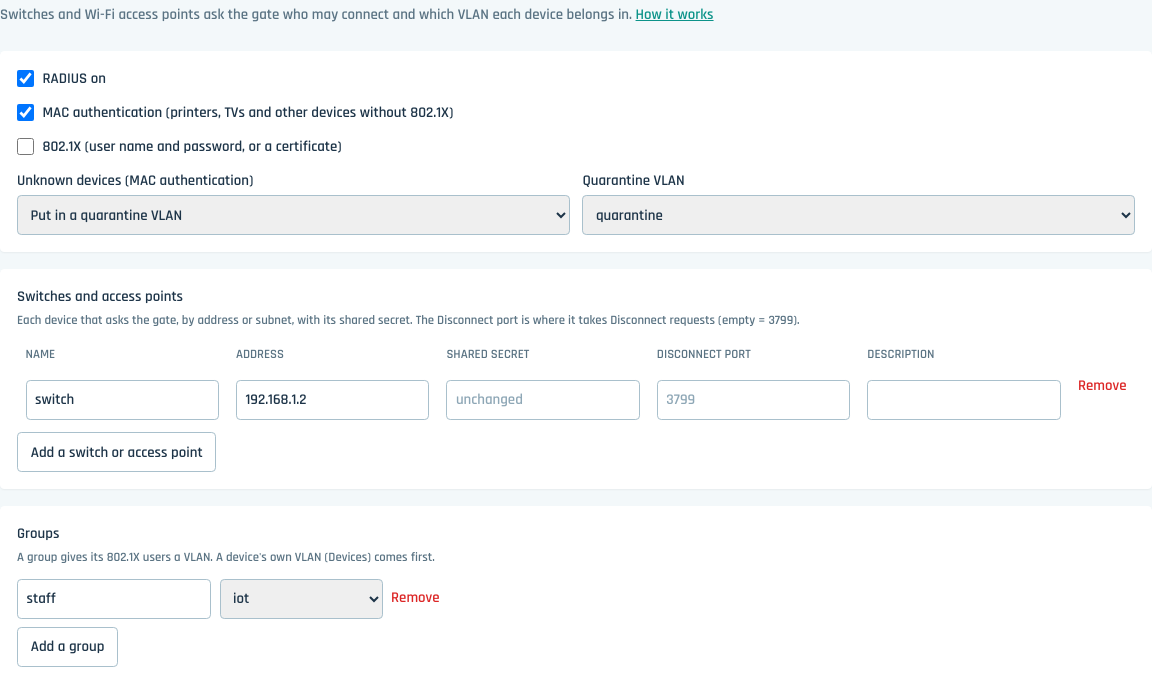
Network → RADIUS › checks the form before saving
expect the table named "Switches and access points" is shown: met, box [17, 337, 1135, 424]
Click the button "Add a switch or access point" at (117, 452), box [17, 432, 216, 472]
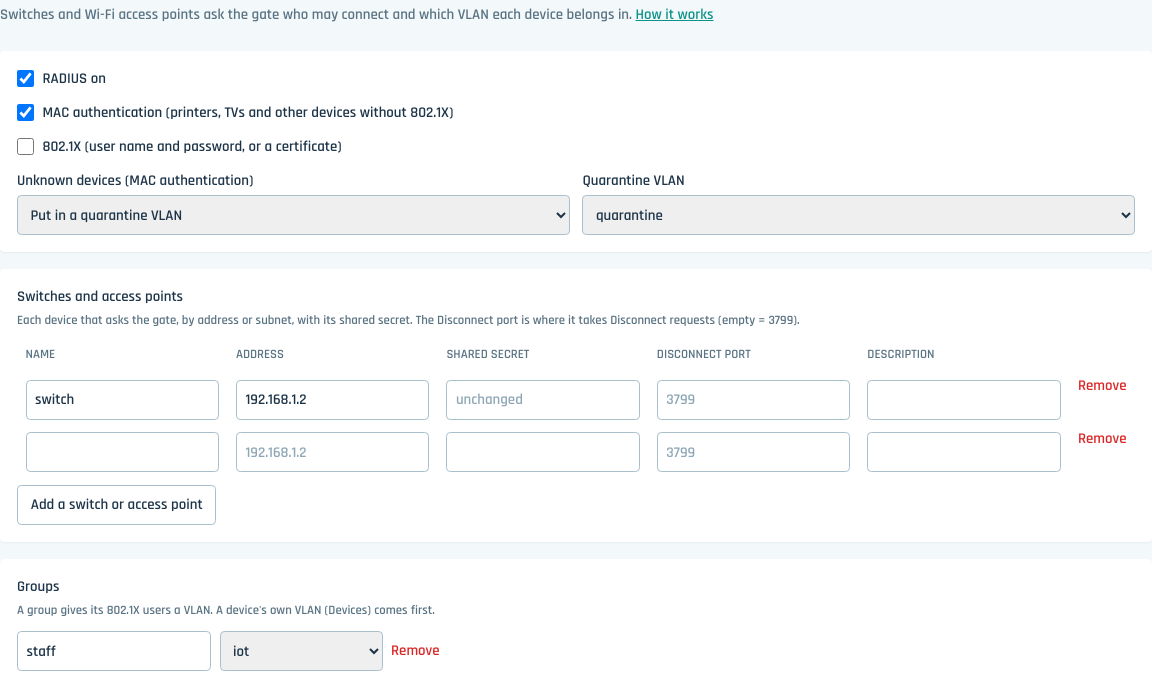
Type "ap" into the 2nd field named "Name" at (122, 452), box [26, 432, 219, 472]
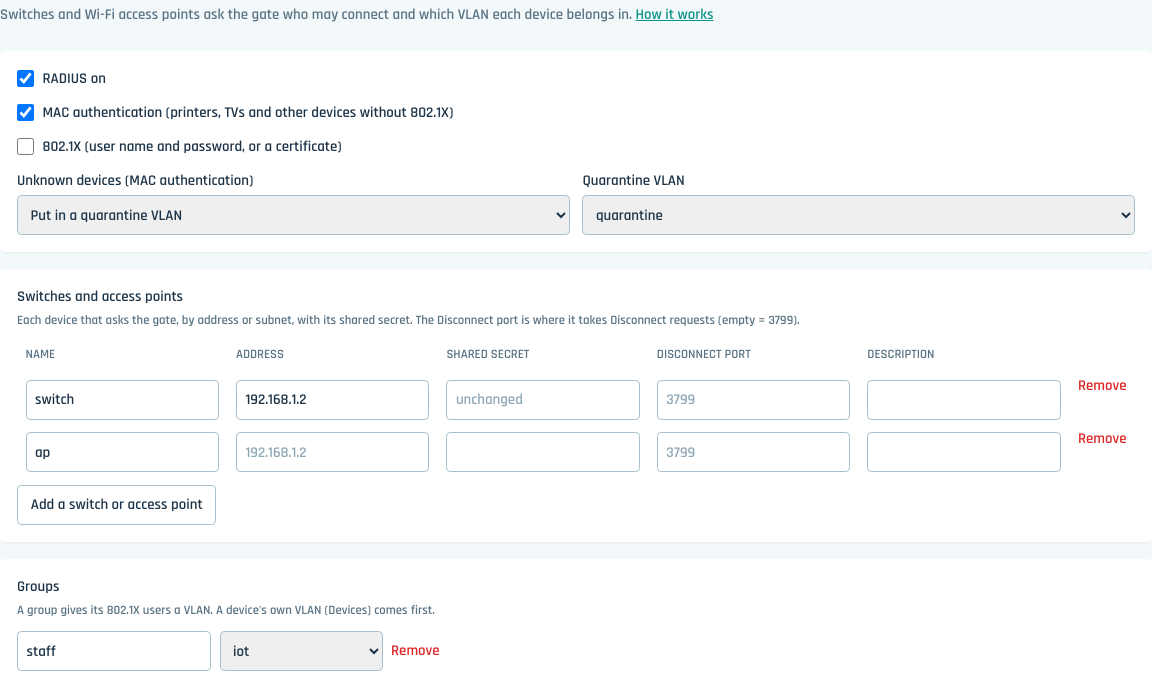
Type "not-an-ip" into the field named "Address" at (333, 452), box [236, 432, 429, 472]
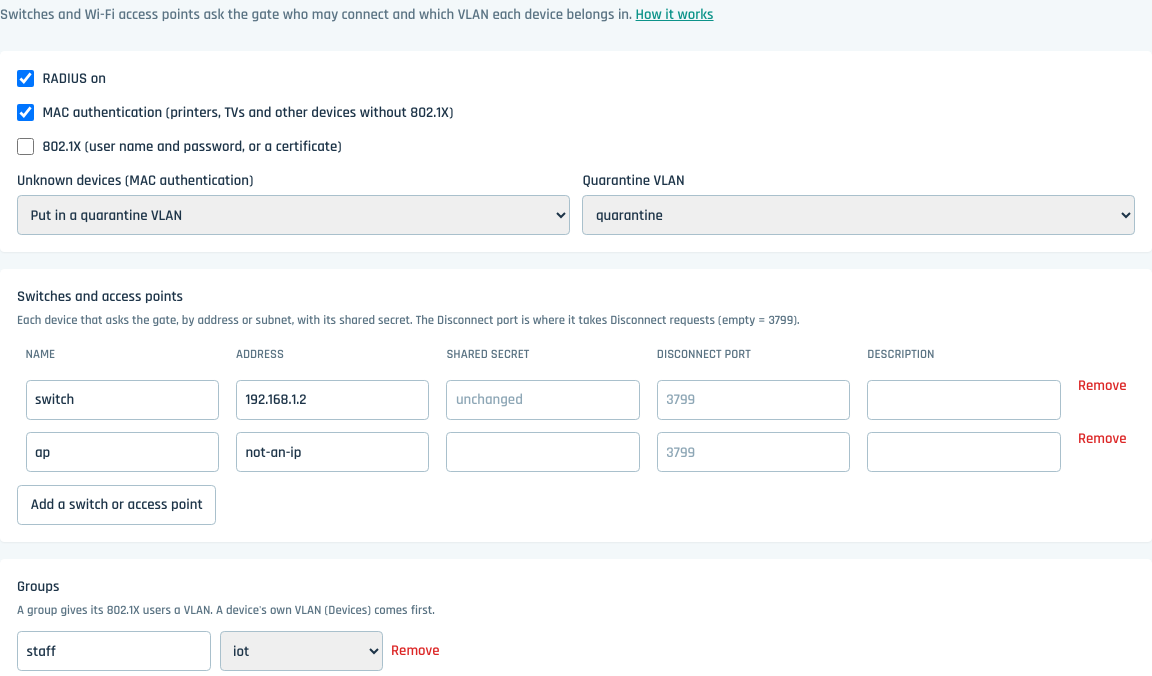
Type "has space" into the password field named "Shared secret" at (543, 452), box [446, 432, 640, 472]
(page scrolled)
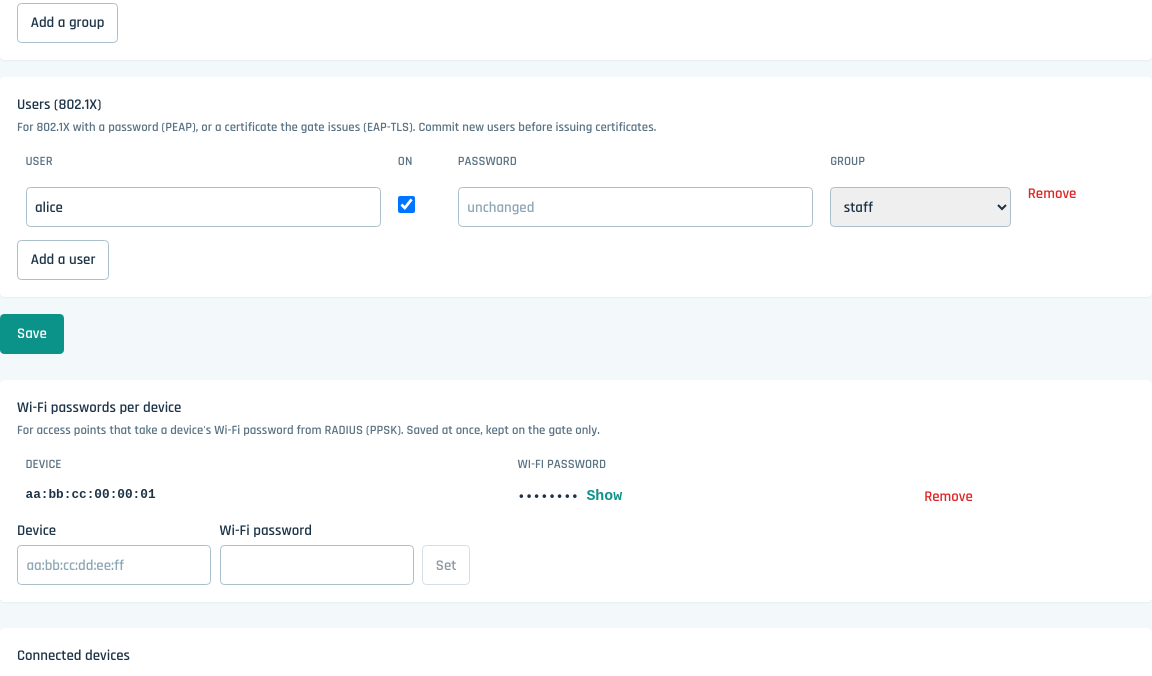
Click the button "Save" at (32, 334), box [0, 314, 64, 354]
(page scrolled)
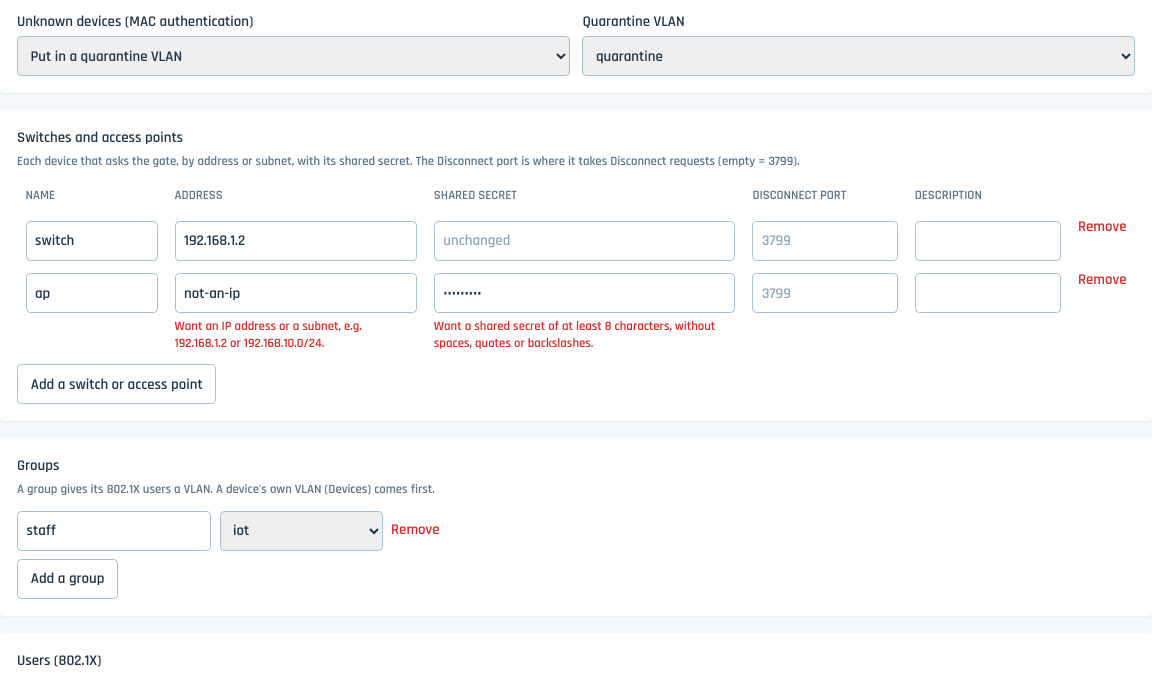
expect the text "Want an IP address or a subnet, e.g. 192.168.1.2 or 192.168.10.0/24." is shown: met, box [175, 318, 362, 350]
expect the text "Want a shared secret of at least 8 characters, without spaces, quotes or backslashes." is shown: met, box [434, 318, 715, 350]
